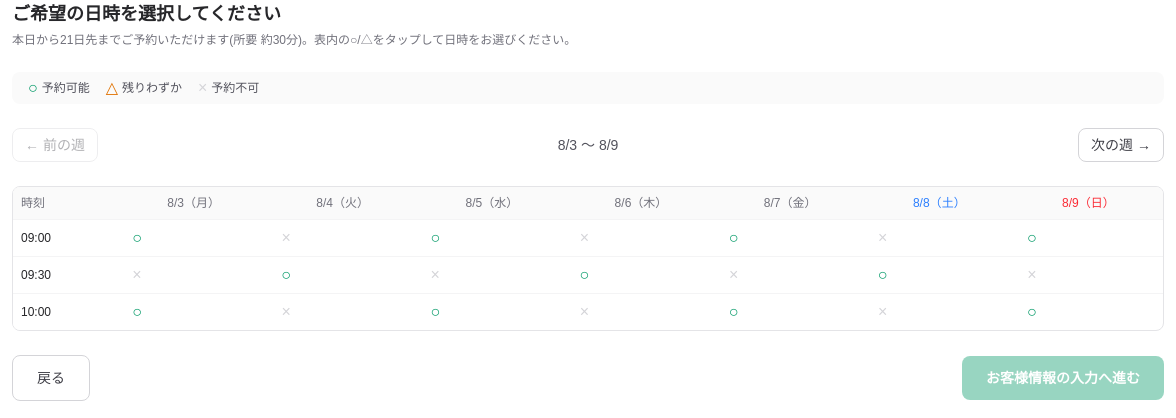
Test: StepDateTime: 7日単位・3ページのページング境界 › 最終ページ(3ページ目)では「次の週」が無効
Expected: the table is shown, [13, 187, 1163, 330]
What coordinates should you click on to do the following:
click the button "次の週 →"
I would click on:
 (1121, 145)
Its box is [1078, 128, 1164, 162].
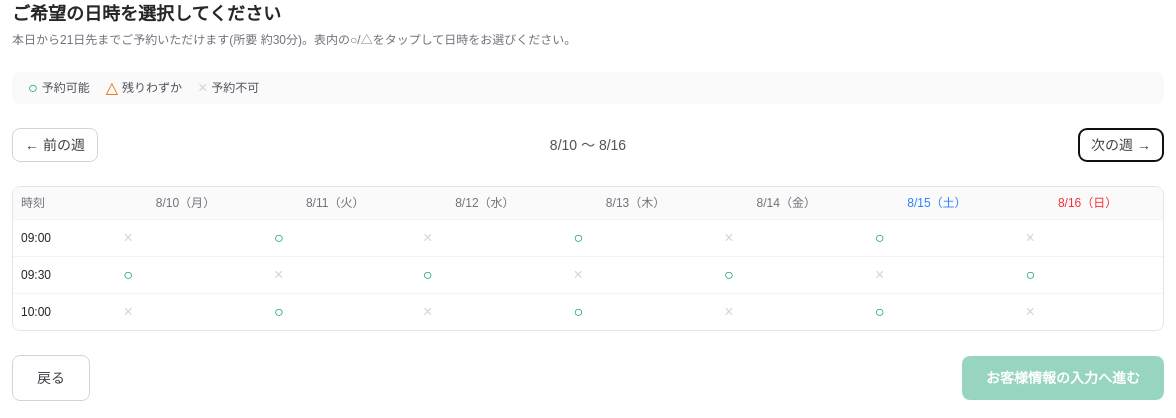
What coordinates should you click on to do the following:
click the button "次の週 →"
I would click on:
 (1121, 145)
Its box is [1078, 128, 1164, 162].
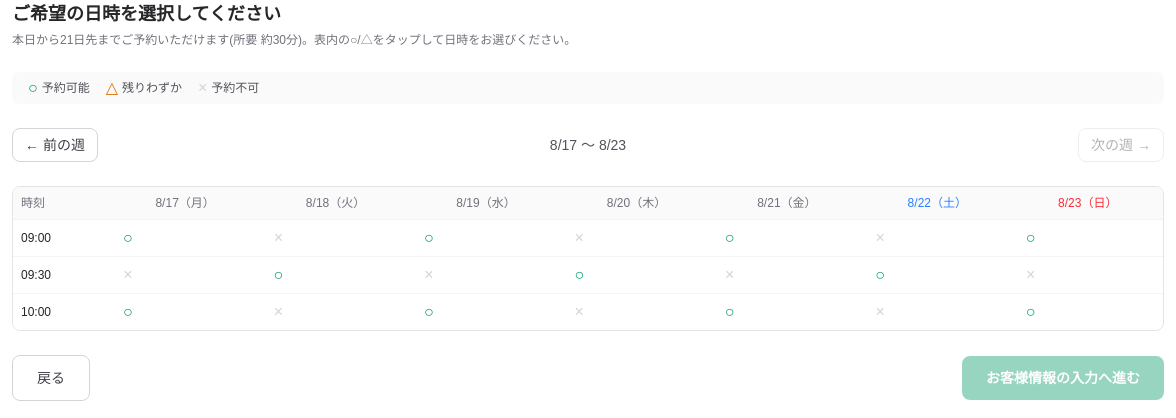
Now the button "← 前の週" is enabled, box [12, 128, 98, 162]
Now the button "次の週 →" is disabled, box [1078, 128, 1164, 162]
